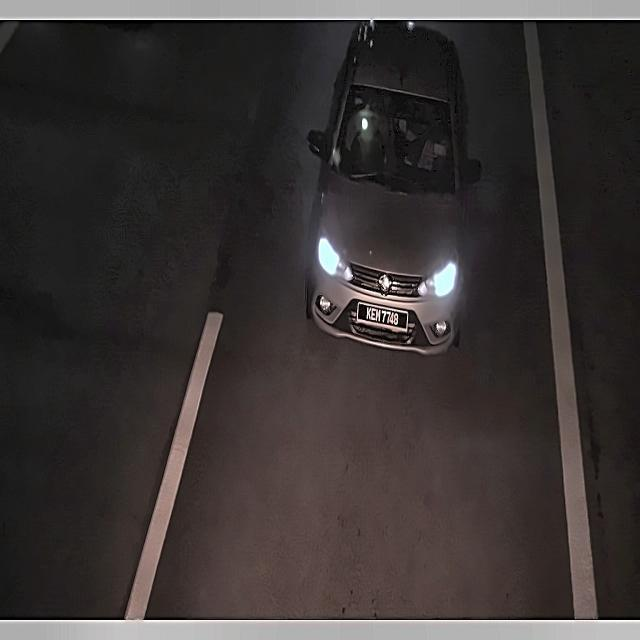car: (356, 298, 408, 337)
